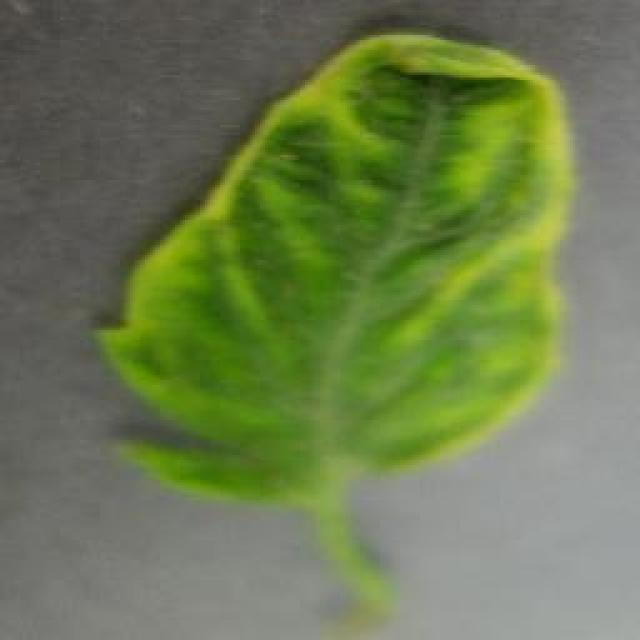Tomato yellow virus leaf: (97, 28, 572, 512)
